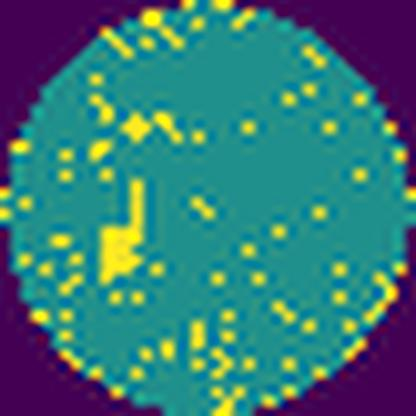Edge-Loc: (97, 176, 151, 291), (114, 111, 187, 145)
